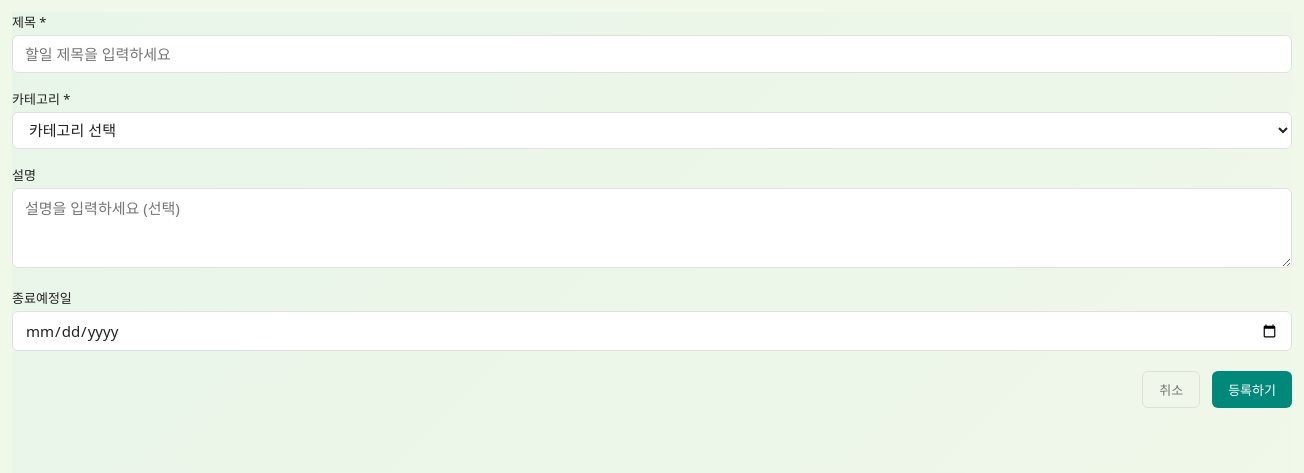
Test: TodoForm › 제목 미입력 시 에러를 표시한다
Click the button "등록하기" at coordinates (1252, 390), box [1212,371,1292,408]
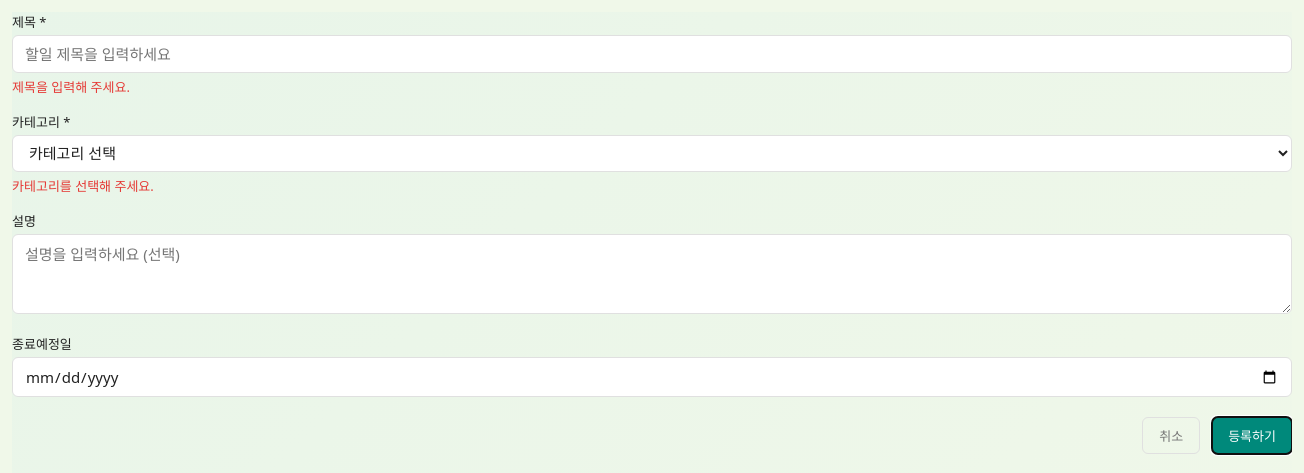
Expected: the text "제목을 입력해 주세요." is shown, [12,78,130,96]
